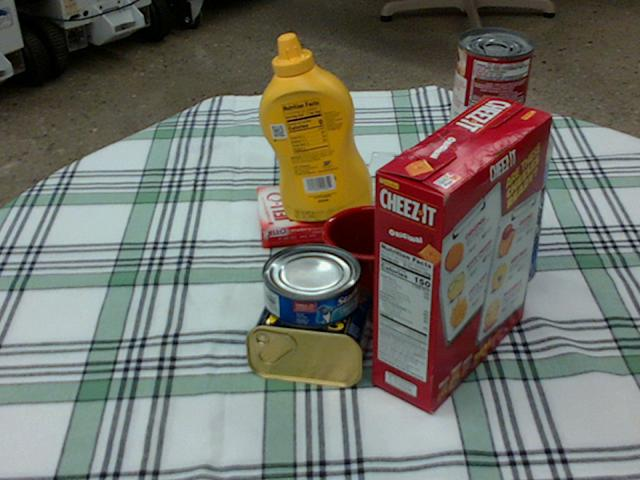cracker_box: (372, 96, 552, 413)
gelatin_box: (257, 185, 328, 249)
master_chef_can: (435, 118, 552, 291)
mug: (322, 207, 444, 324)
mustard_bottle: (258, 34, 371, 221)
potted_meat_can: (248, 276, 377, 385)
sugar_box: (345, 151, 446, 264)
tomato_soup_can: (447, 29, 532, 160)
tuna_fish_can: (262, 243, 360, 328)
